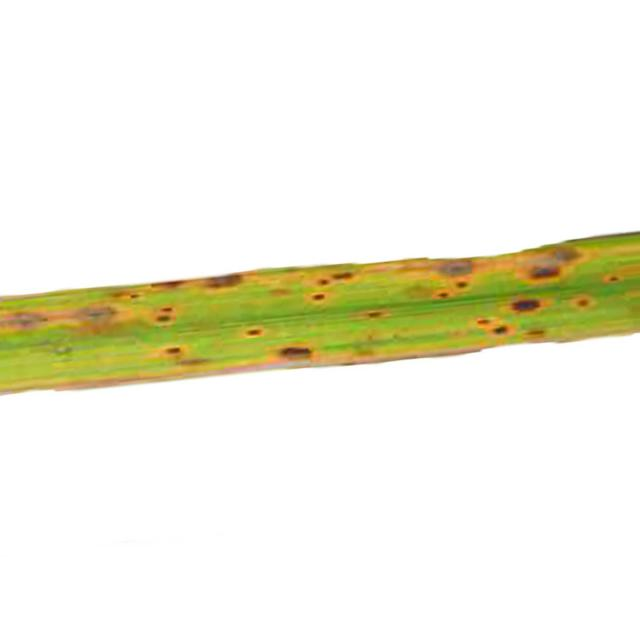Brown_Spot: (64, 296, 134, 334), (0, 296, 48, 330), (516, 252, 560, 282), (430, 259, 472, 281), (430, 280, 471, 302), (555, 244, 599, 264), (206, 271, 256, 288), (478, 318, 516, 336), (155, 341, 192, 359), (510, 298, 551, 312), (278, 346, 311, 361), (302, 276, 334, 291), (150, 280, 188, 292), (450, 275, 474, 293), (154, 306, 176, 325), (522, 326, 549, 341), (601, 269, 626, 285), (302, 292, 340, 302), (571, 294, 594, 309), (360, 309, 391, 320), (242, 326, 265, 339), (476, 316, 498, 329), (332, 272, 354, 279)
